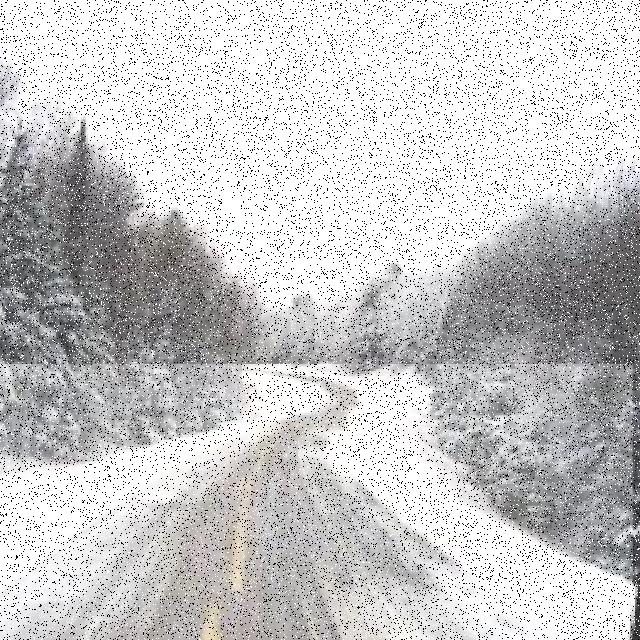ice-road: (0, 365, 628, 640)
